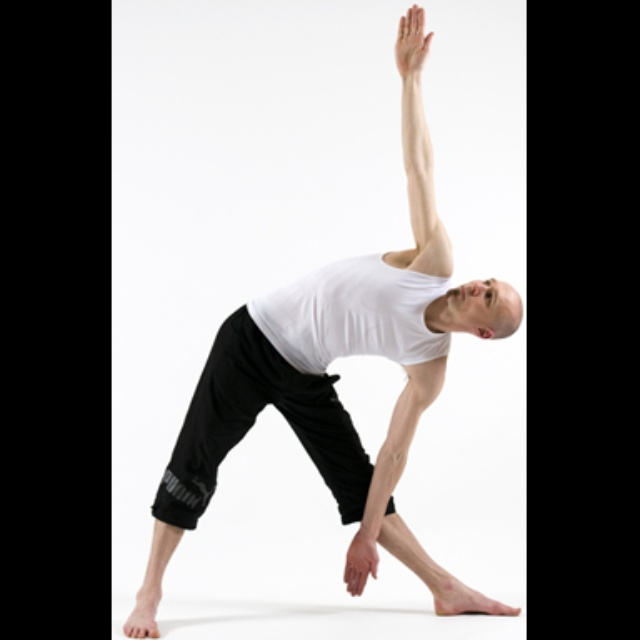Triangle_Pose: (124, 2, 524, 635)
